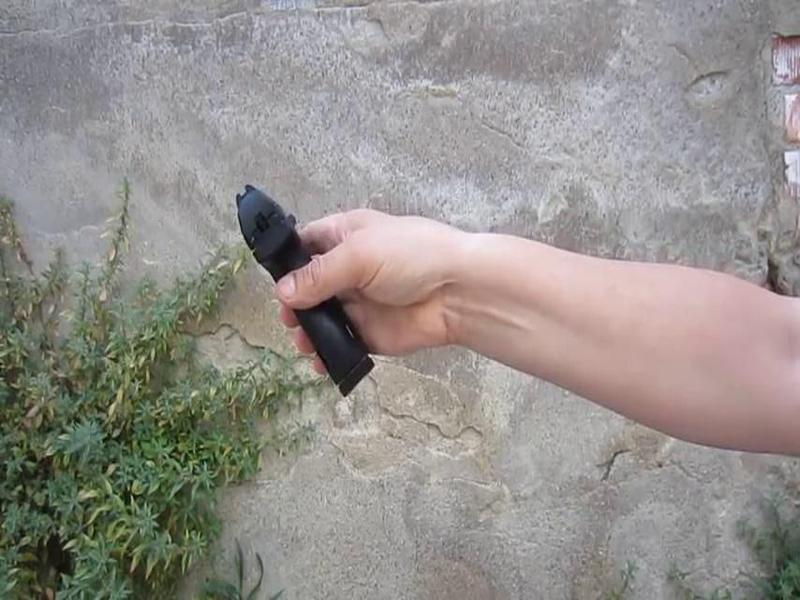Pistola: (171, 181, 401, 412)
